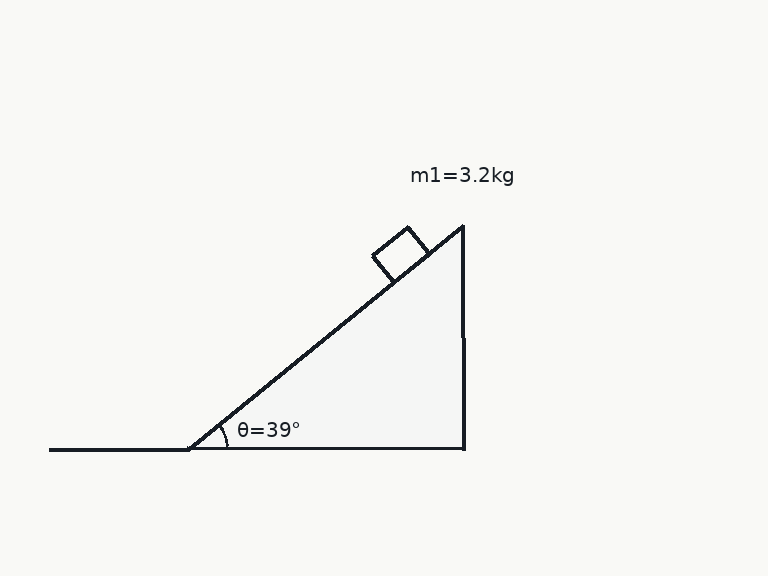block: (370, 225, 431, 284)
ramp: (185, 224, 465, 451)
